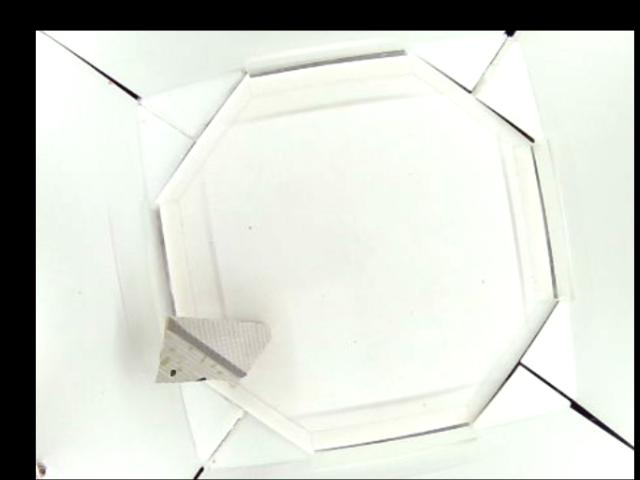China: (153, 308, 272, 386)
